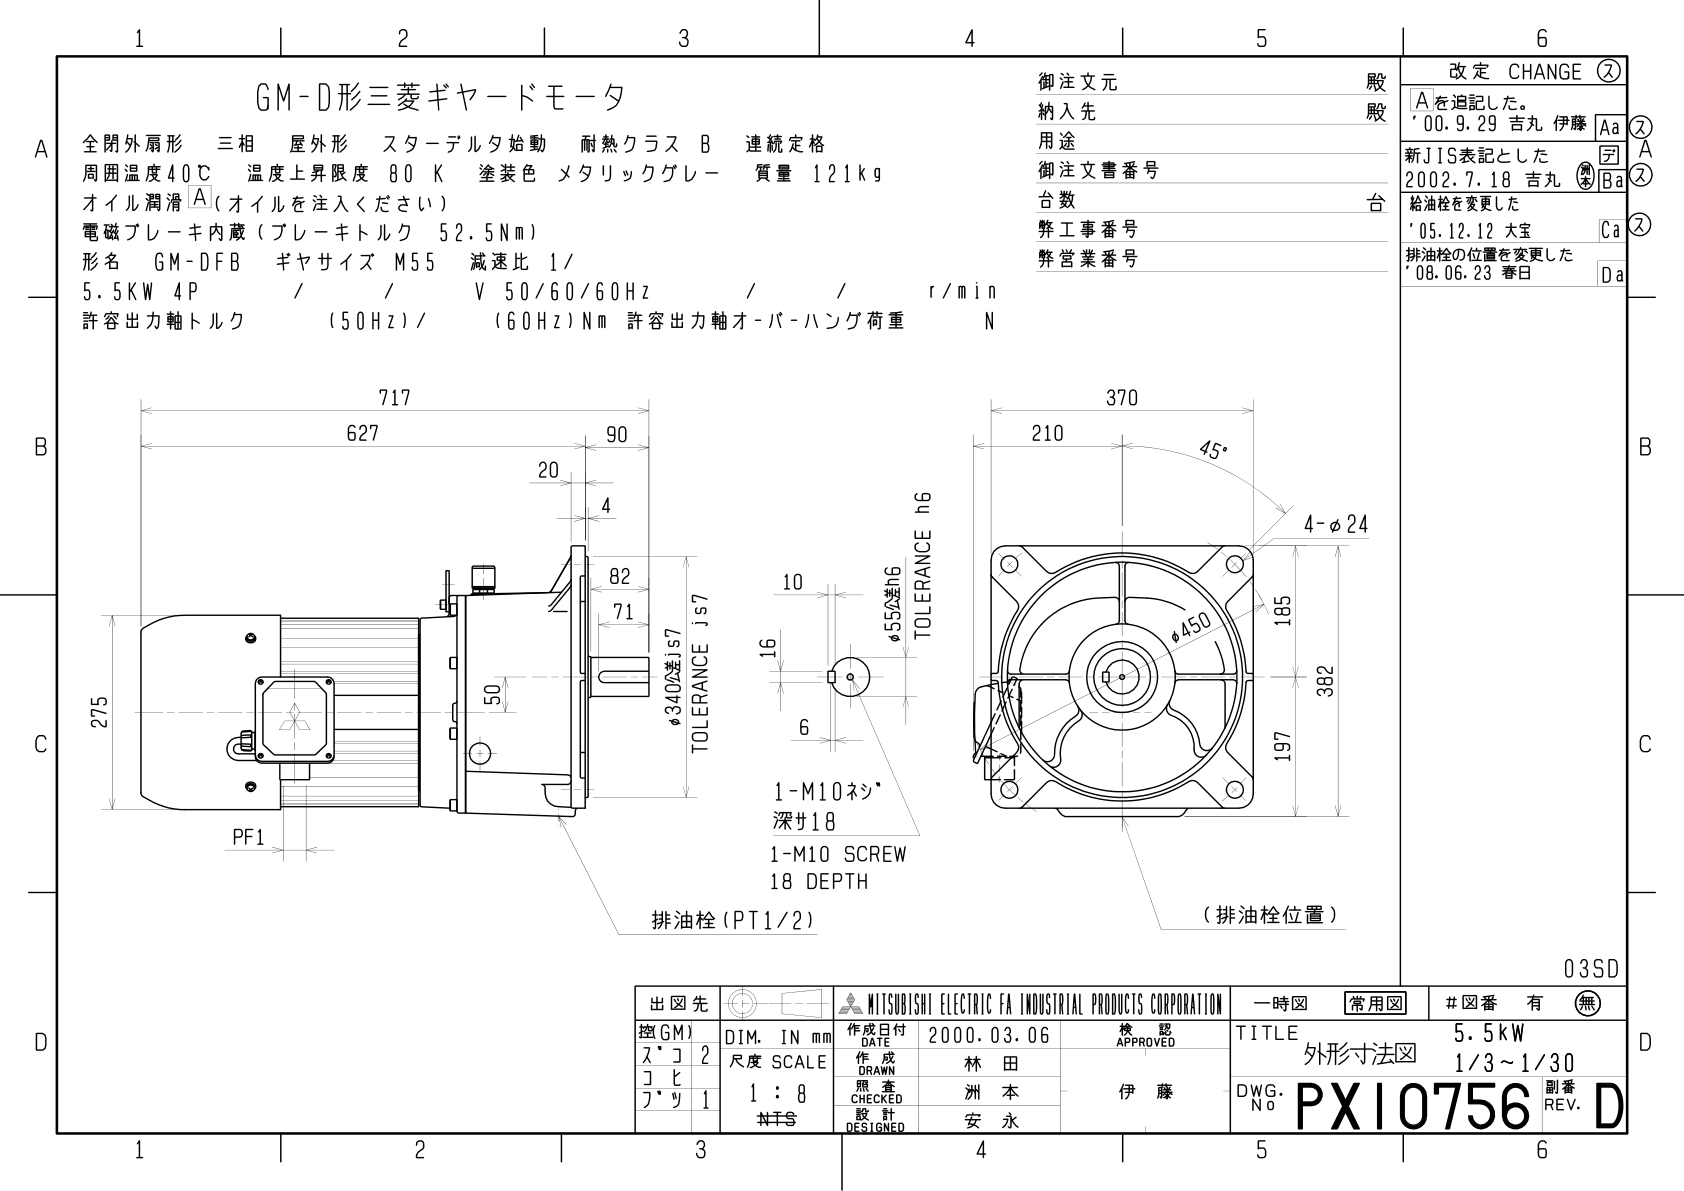GM_D_屋外＿三相_フランジ: (1, 1, 1680, 1181)
